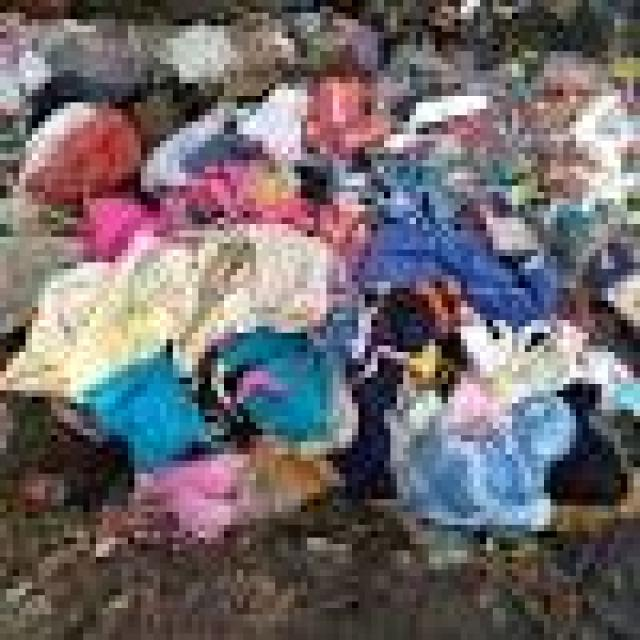Clothes -Biodegradable-: (0, 0, 640, 544)
